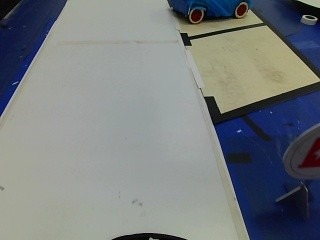car: (167, 0, 255, 25)
